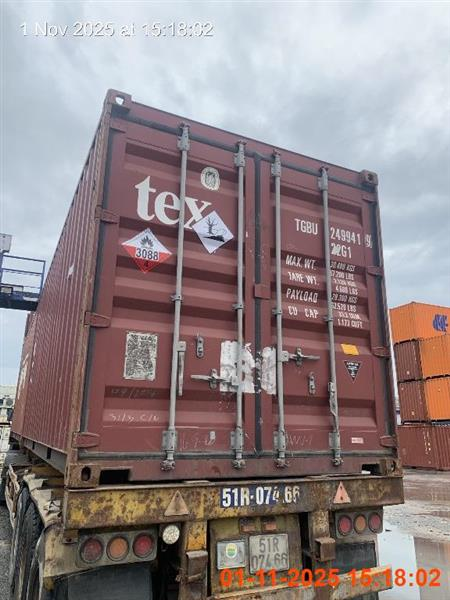broken: (1, 89, 406, 599)
